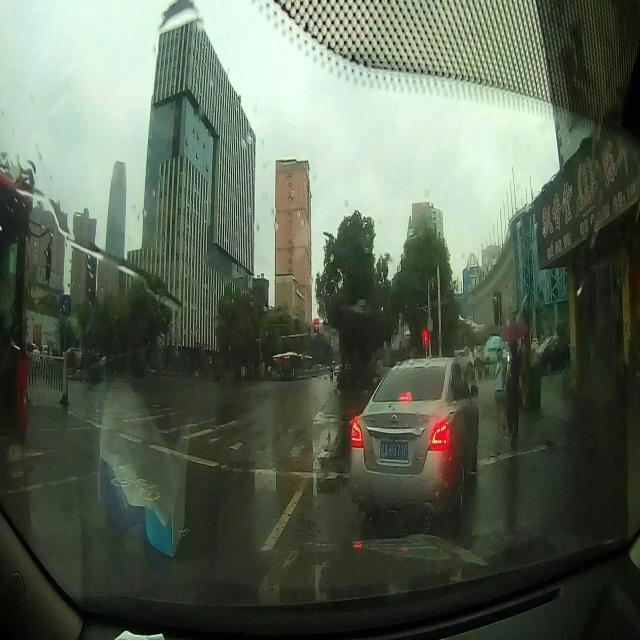car: (350, 358, 478, 522), (506, 314, 524, 446), (492, 350, 509, 432)
